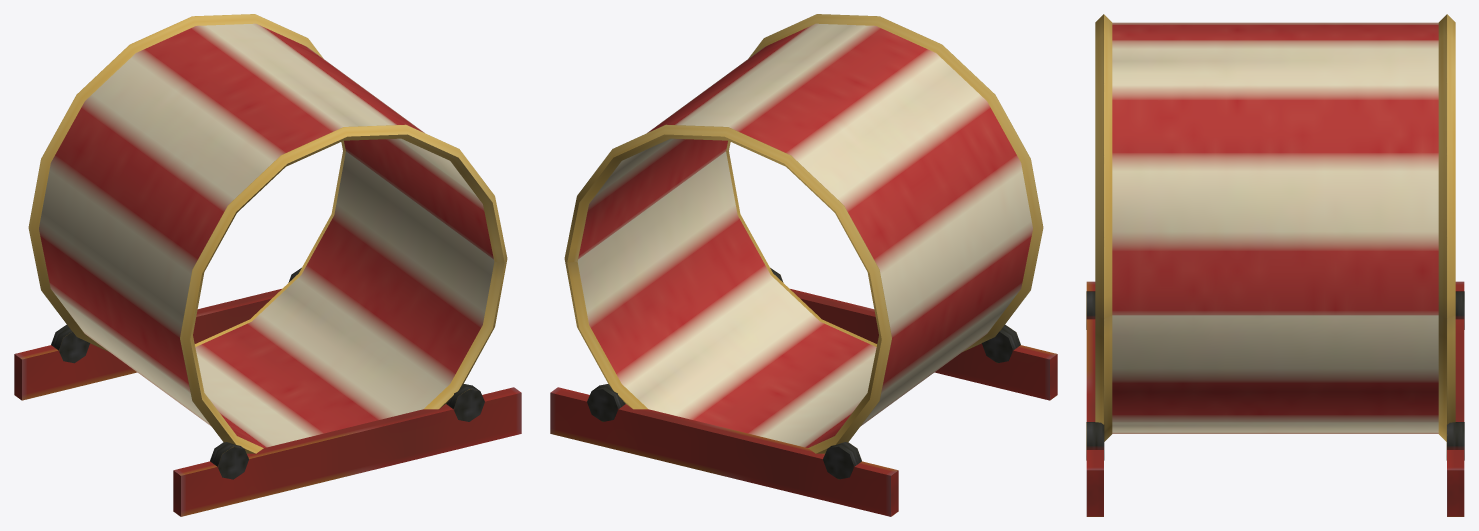
The model's file is barrel_tunnel.obj.
3 views of the same model, side by side, from view 1: azimuth 30°, elevation 25°; view 2: azimuth 150°, elevation 25°; view 3: azimuth 270°, elevation 25° (orthographic). The views are drawn at different scales.
Parts seen in each view (by area): view 1: barrel_tunnel_drum, barrel_tunnel; view 2: barrel_tunnel_drum, barrel_tunnel; view 3: barrel_tunnel_drum, barrel_tunnel.
Part boxes in pixels (x1,y1,x2,y2): barrel_tunnel_drum: [28, 14, 507, 453]; barrel_tunnel: [14, 267, 521, 516]; barrel_tunnel_drum: [564, 14, 1043, 453]; barrel_tunnel: [550, 267, 1057, 516]; barrel_tunnel_drum: [1095, 14, 1455, 441]; barrel_tunnel: [1086, 281, 1464, 516].
Bounding box in the file's own units: 2.6 × 2.5 × 2.2.
1 material, 1 textured.
